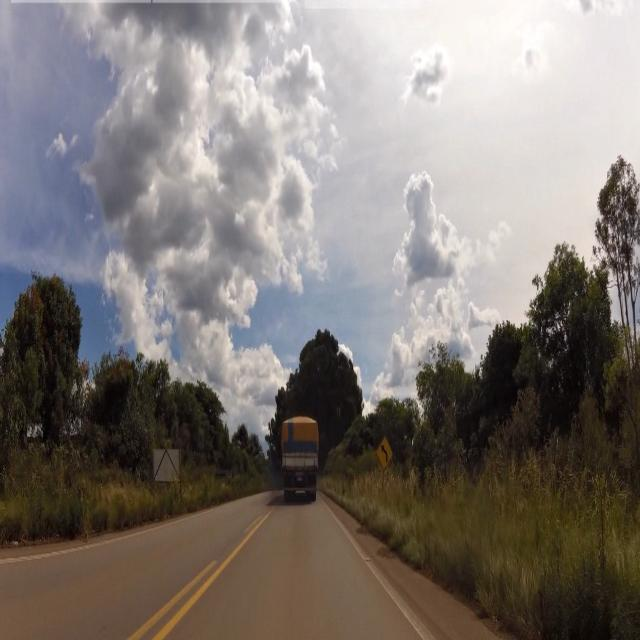A-2a: (374, 436, 394, 471)
